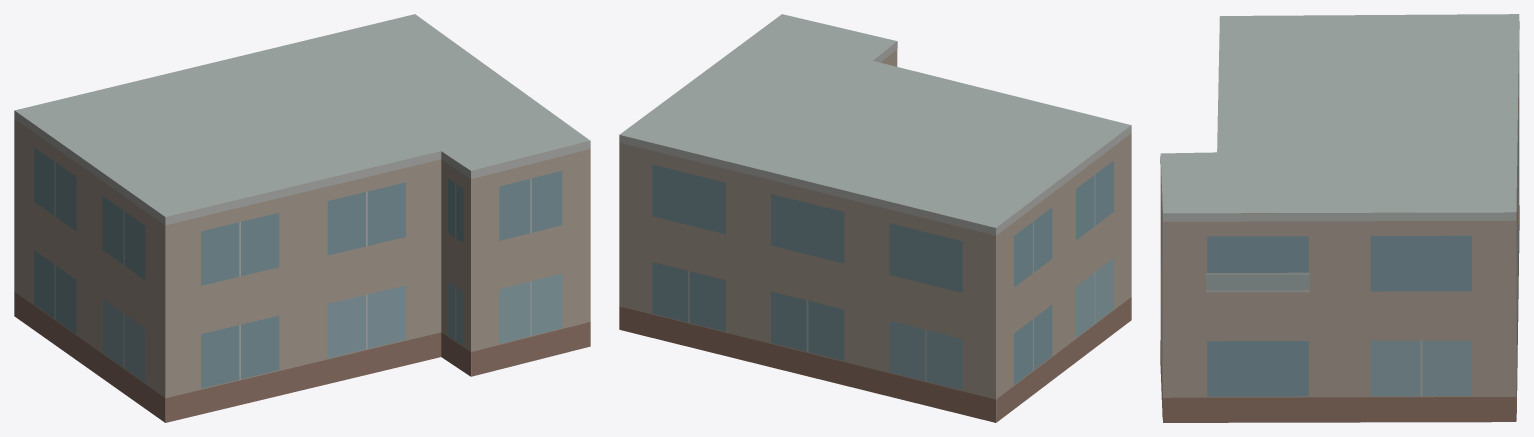
Rendered from survey-upis-32902309.glb.
The picture shows the model from 3 angles, left to right: view 1: azimuth 30°, elevation 25°; view 2: azimuth 150°, elevation 25°; view 3: azimuth 270°, elevation 25°; orthographic projection. The views are drawn at different scales.
Visible parts, largest first — view 1: survey-upis-32902309.tmp; view 2: survey-upis-32902309.tmp; view 3: survey-upis-32902309.tmp.
Boxes of the visible parts, x1=… form: survey-upis-32902309.tmp: x1=14, y1=14, x2=590, y2=422; survey-upis-32902309.tmp: x1=619, y1=14, x2=1131, y2=422; survey-upis-32902309.tmp: x1=1160, y1=14, x2=1519, y2=422.
Bounding box in the file's own units: 12.48 × 6.1 × 9.48.
